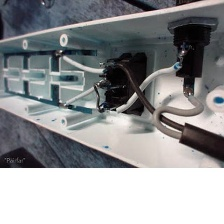three_eye_plug: (0, 1, 224, 178)
